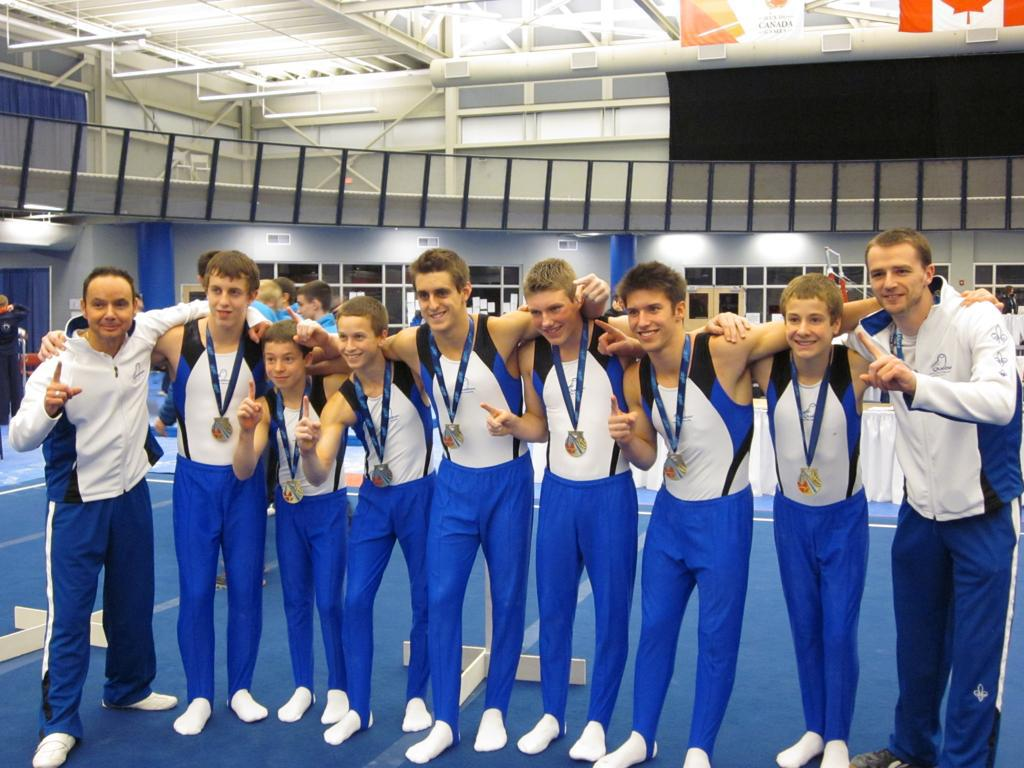face: (867, 253, 923, 313), (626, 293, 676, 349), (786, 300, 833, 358), (416, 278, 464, 331), (86, 283, 132, 338), (209, 275, 249, 328), (529, 298, 574, 345), (338, 320, 380, 368), (266, 345, 304, 389), (298, 297, 314, 321)
